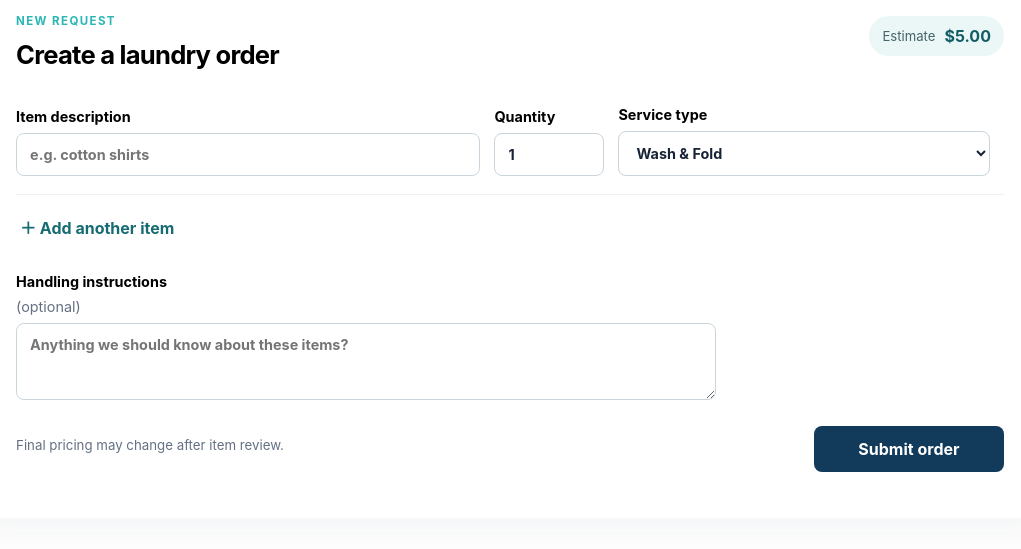
Scenario: CreateOrderForm › shows an API validation message without losing the entered fields
This screenshot has width=1021, height=549.
Type "Cotton shirts" into the field labelled "Item description" at (248, 155), box [16,133,480,176]
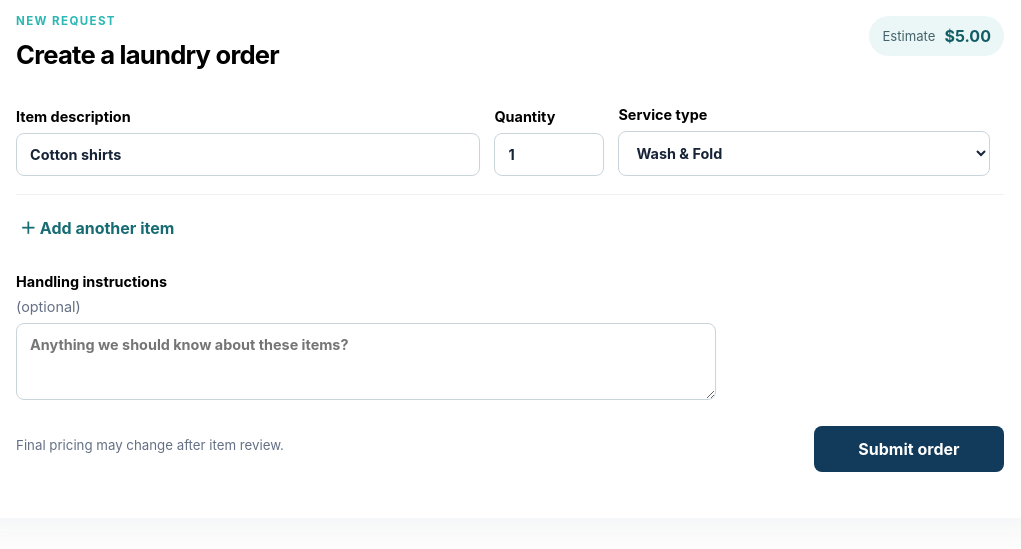
Replace the text in the number field labelled "Quantity" with "2" at (549, 155), box [494,133,604,176]
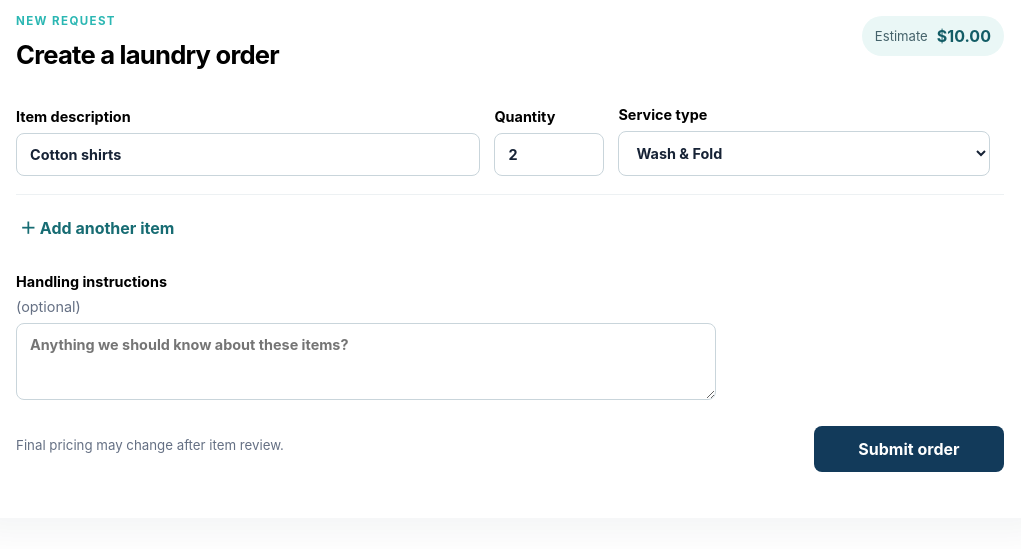
Click the button "Submit order" at (909, 449), box [814,426,1004,472]
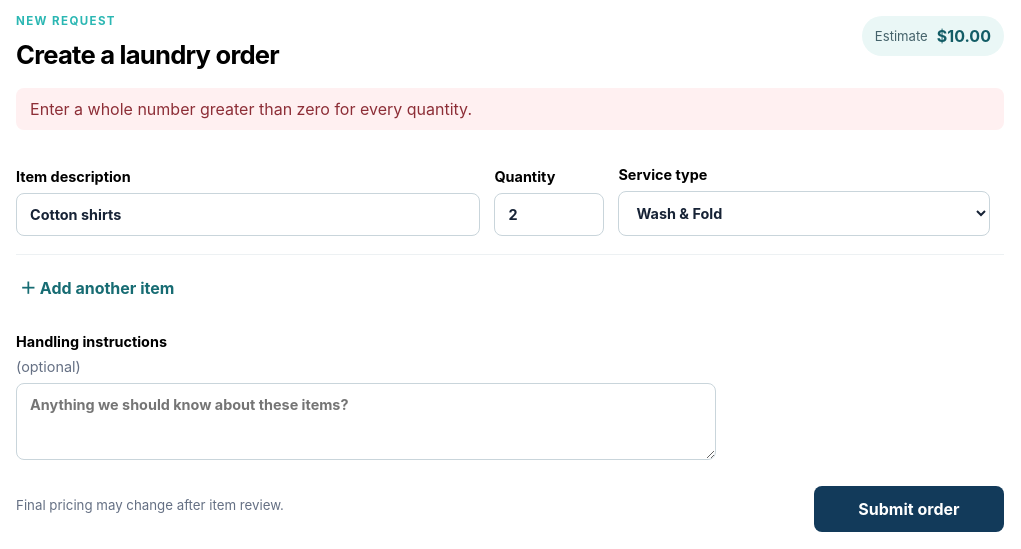
Result: the message shows "Enter a whole number greater than zero" at [30,99,472,119]
